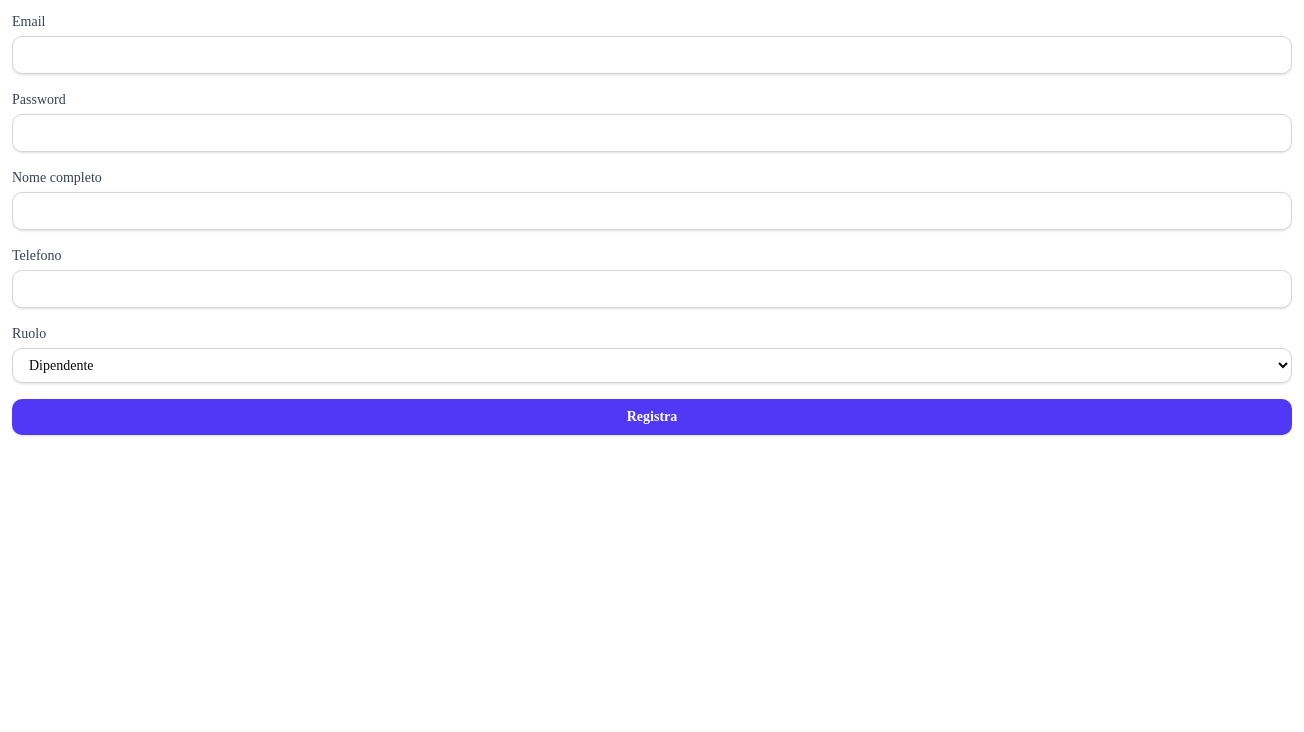
Test case: RegisterPage / RegisterForm › validation › shows email required error when form is submitted empty
Click the button "Registra": coordinates (652, 417) [12,399,1292,435]
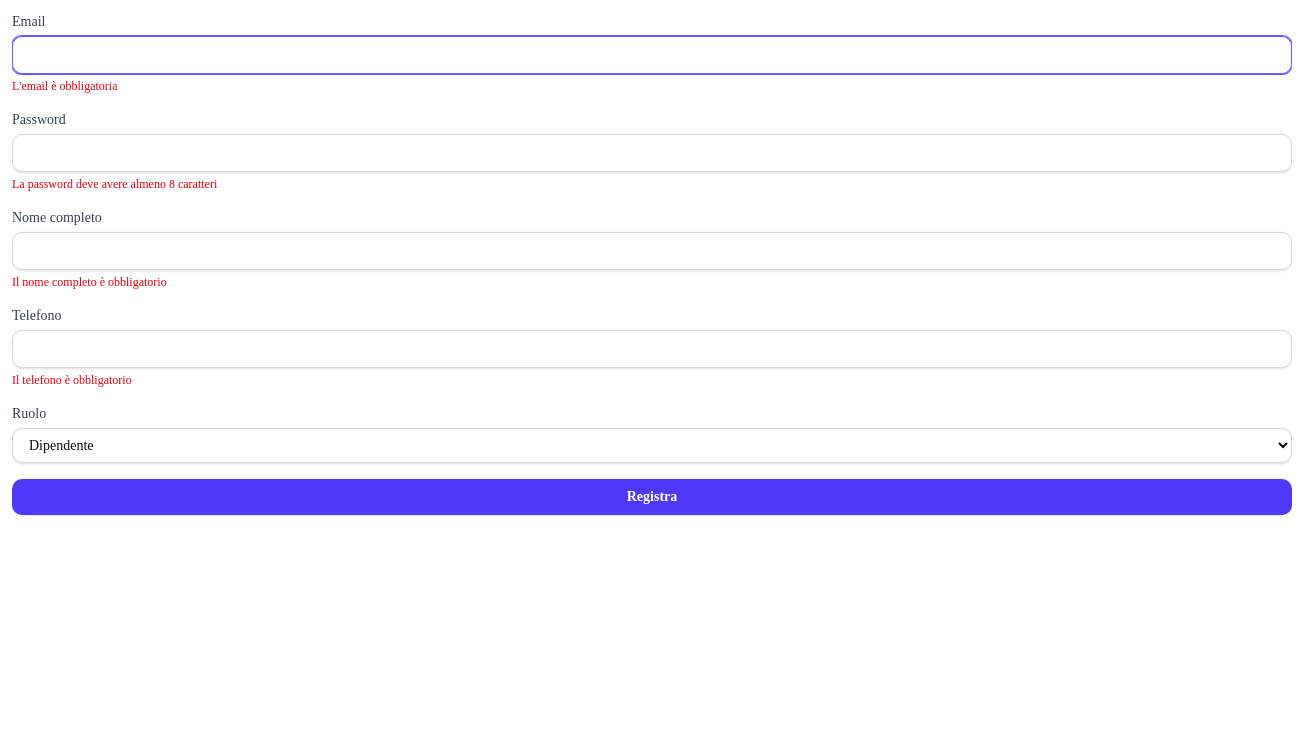
Now the text "L'email è obbligatoria" is shown, box [12,79,118,93]
